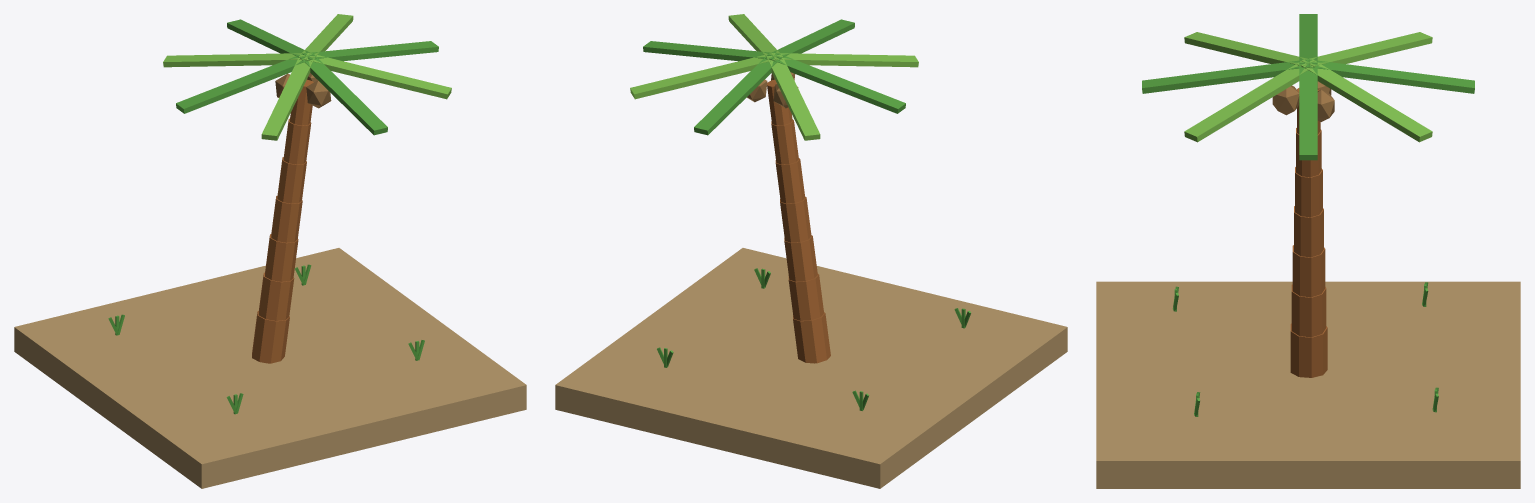
The model's file is coconut_tree.glb.
The picture shows the model from 3 angles, left to right: view 1: azimuth 30°, elevation 25°; view 2: azimuth 150°, elevation 25°; view 3: azimuth 270°, elevation 25°; orthographic projection. The views are drawn at different scales.
Parts seen in each view (by area): view 1: TerrainBase, PalmLeaf.004, PalmLeaf.007, PalmLeaf.006, PalmLeaf.003, PalmLeaf.005, CoconutTrunk, PalmLeaf, CoconutTrunk.001, CoconutTrunk.002, CoconutTrunk.003, PalmLeaf.002 (+4 smaller); view 2: TerrainBase, PalmLeaf.004, PalmLeaf.001, PalmLeaf.002, PalmLeaf.005, PalmLeaf.003, CoconutTrunk, PalmLeaf, CoconutTrunk.001, CoconutTrunk.002, CoconutTrunk.003, PalmLeaf.006 (+4 smaller); view 3: TerrainBase, PalmLeaf.001, PalmLeaf.007, PalmLeaf.006, PalmLeaf.002, PalmLeaf, CoconutTrunk, PalmLeaf.003, PalmLeaf.005, CoconutTrunk.001, CoconutTrunk.002, CoconutTrunk.003 (+5 smaller).
Boxes of the visible parts, x1=… form: TerrainBase: x1=14, y1=248, x2=526, y2=488; PalmLeaf.004: x1=176, y1=53, x2=312, y2=113; PalmLeaf.007: x1=304, y1=53, x2=451, y2=99; PalmLeaf.006: x1=300, y1=54, x2=387, y2=135; PalmLeaf.003: x1=163, y1=53, x2=310, y2=67; PalmLeaf.005: x1=261, y1=54, x2=315, y2=140; CoconutTrunk: x1=252, y1=311, x2=289, y2=363; PalmLeaf: x1=302, y1=41, x2=438, y2=61; CoconutTrunk.001: x1=258, y1=272, x2=294, y2=320; CoconutTrunk.002: x1=265, y1=234, x2=298, y2=281; CoconutTrunk.003: x1=271, y1=196, x2=302, y2=242; PalmLeaf.002: x1=227, y1=19, x2=314, y2=58; TerrainBase: x1=555, y1=248, x2=1067, y2=488; PalmLeaf.004: x1=769, y1=53, x2=905, y2=113; PalmLeaf.001: x1=630, y1=53, x2=777, y2=99; PalmLeaf.002: x1=694, y1=54, x2=781, y2=135; PalmLeaf.005: x1=771, y1=53, x2=918, y2=67; PalmLeaf.003: x1=766, y1=54, x2=820, y2=140; CoconutTrunk: x1=793, y1=312, x2=830, y2=363; PalmLeaf: x1=643, y1=41, x2=779, y2=61; CoconutTrunk.001: x1=788, y1=273, x2=823, y2=320; CoconutTrunk.002: x1=784, y1=235, x2=817, y2=281; CoconutTrunk.003: x1=780, y1=196, x2=811, y2=242; PalmLeaf.006: x1=767, y1=19, x2=854, y2=58; TerrainBase: x1=1096, y1=281, x2=1520, y2=488; PalmLeaf.001: x1=1301, y1=60, x2=1432, y2=142; PalmLeaf.007: x1=1184, y1=60, x2=1315, y2=142; PalmLeaf.006: x1=1142, y1=59, x2=1309, y2=93; PalmLeaf.002: x1=1307, y1=59, x2=1474, y2=93; PalmLeaf: x1=1299, y1=62, x2=1317, y2=160; CoconutTrunk: x1=1290, y1=323, x2=1327, y2=377; PalmLeaf.003: x1=1301, y1=32, x2=1432, y2=66; PalmLeaf.005: x1=1184, y1=32, x2=1315, y2=66; CoconutTrunk.001: x1=1291, y1=284, x2=1326, y2=337; CoconutTrunk.002: x1=1292, y1=245, x2=1325, y2=297; CoconutTrunk.003: x1=1294, y1=206, x2=1323, y2=257.
Bounding box in the file's own units: 8.05 × 7.42 × 8.
